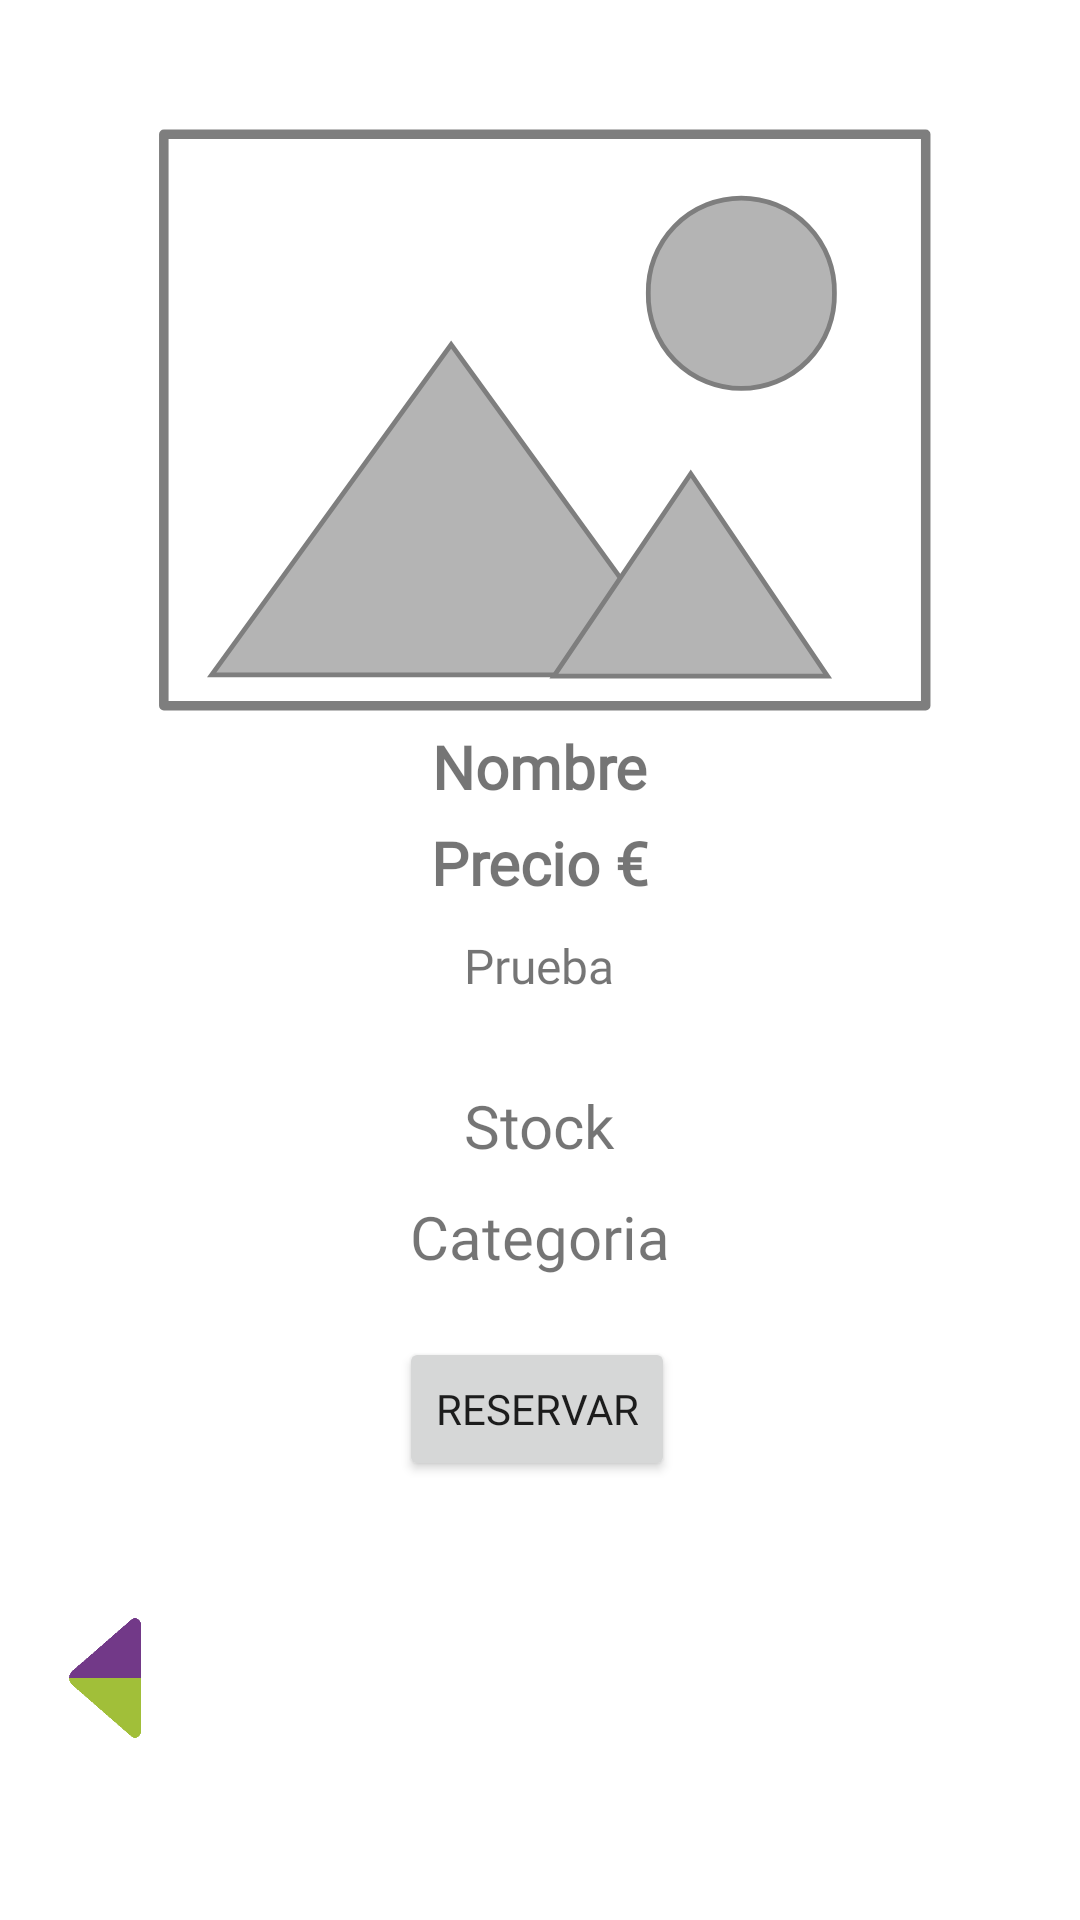

Where to tap for icons on this 1080w x 1920h app screen, as (x=x, y=y):
volver sc: (x=105, y=1678)
